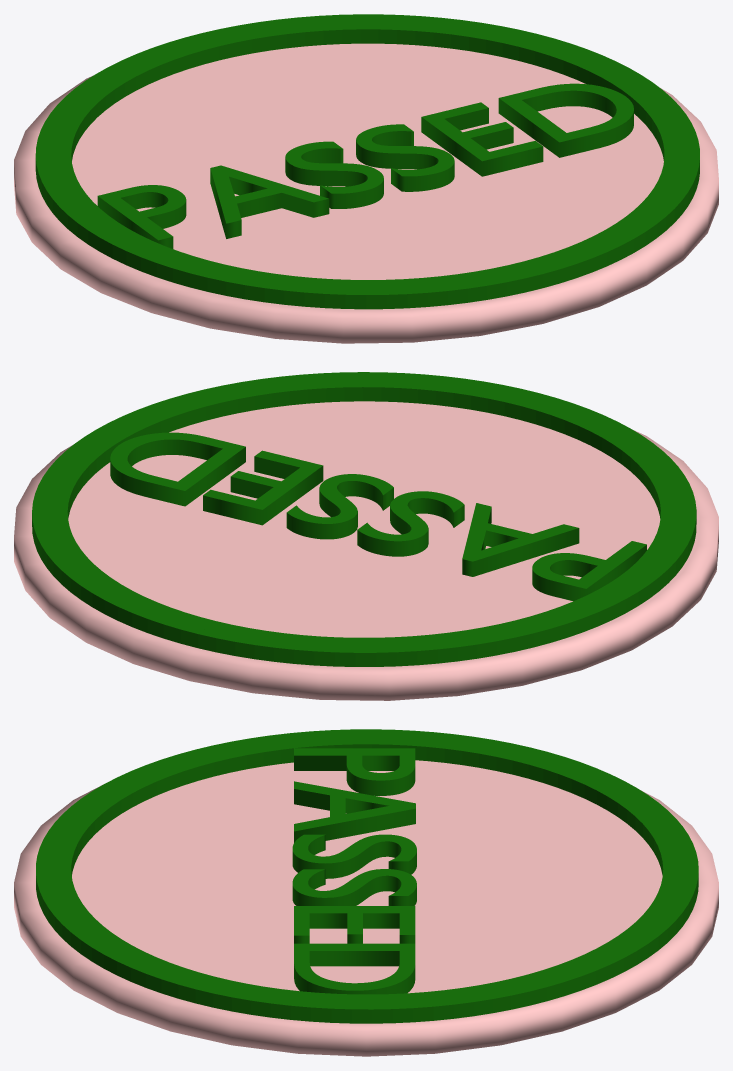
The model's file is PASSED 1.fbx.
3 renders of one model, top to bottom at view 1: azimuth 30°, elevation 25°; view 2: azimuth 150°, elevation 25°; view 3: azimuth 270°, elevation 25°, orthographic.
Parts seen in each view (by area): view 1: Cylinder, Cube, FAILED; view 2: Cylinder, Cube, FAILED; view 3: Cylinder, Cube, FAILED.
Boxes of the visible parts, <box> form: Cylinder: <box>14,43,718,343</box>; Cube: <box>35,14,699,309</box>; FAILED: <box>97,83,633,248</box>; Cylinder: <box>14,401,718,700</box>; Cube: <box>32,372,696,666</box>; FAILED: <box>110,432,646,601</box>; Cylinder: <box>14,760,718,1056</box>; Cube: <box>36,729,698,1023</box>; FAILED: <box>292,748,416,994</box>.
Bounding box in the file's own units: 396 × 25.07 × 396.
